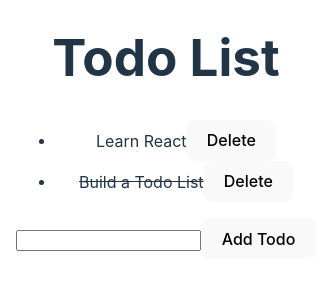
Test: TodoList Component › adds a new todo
The width and height of the screenshot is (332, 288).
Step 1. Type "New Todo" into the field → (109, 240), box [16, 230, 202, 251]
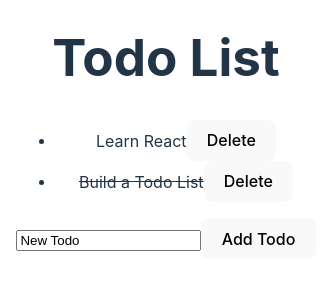
Step 2. Click the button "Add Todo" → (259, 239), box [202, 218, 316, 259]
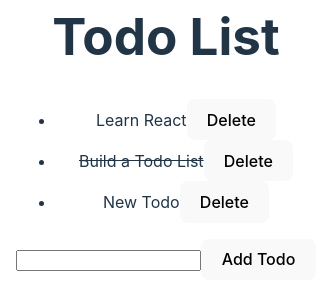
Check: the list item "New Todo" is shown, box [103, 192, 180, 212]
